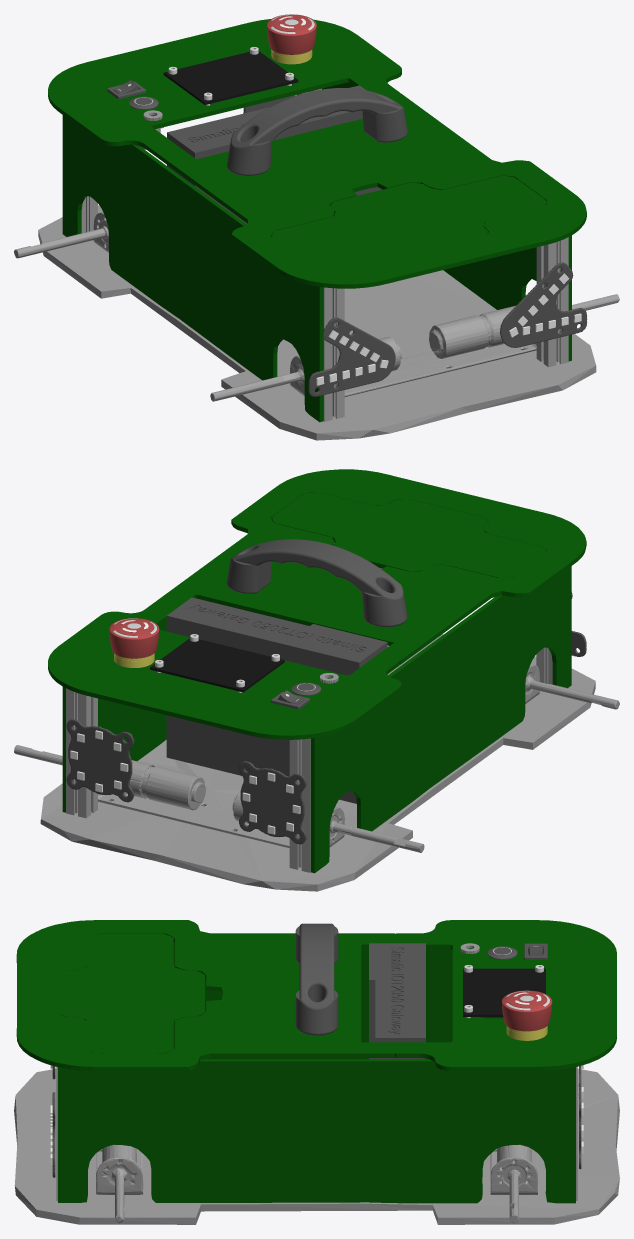
Rendered from eduard-green-chassis.dae.
3 views of the same model, one above another, from view 1: azimuth 30°, elevation 25°; view 2: azimuth 150°, elevation 25°; view 3: azimuth 270°, elevation 25° (orthographic).
Parts seen in each view (by area): view 1: Körper1.064, Körper1.004, Körper1.025, Körper1.063, Körper1.056, Körper1.005, Körper1.062, Körper1, Körper1.002, Körper1.053, Körper1.050, Körper1.084 (+4 smaller); view 2: Körper1.004, Körper1.064, Körper1.025, Körper1.063, Körper1.053, Körper1.056, Körper1.027, Körper1.062, Körper1, Körper1.087, Körper1.054, Körper1.002 (+4 smaller); view 3: Körper1.002, Körper1.064, Körper1.025, Körper1.063, Körper1.056, Körper1.053, Körper1.062, Körper1.004, Körper1, Körper1.027, Körper1.005, Körper10.
Part boxes in pixels (box(x1,y1,x2,y2)): Körper1.064: box(156, 93, 586, 288); Körper1.004: box(62, 115, 323, 422); Körper1.025: box(38, 205, 596, 440); Körper1.063: box(48, 19, 401, 156); Körper1.056: box(271, 176, 546, 261); Körper1.005: box(210, 294, 619, 401); Körper1.062: box(227, 88, 407, 175); Körper1: box(163, 51, 298, 104); Körper1.002: box(322, 82, 571, 361); Körper1.053: box(167, 85, 381, 224); Körper1.050: box(500, 262, 587, 347); Körper1.084: box(308, 317, 395, 396); Körper1.004: box(310, 566, 571, 873); Körper1.064: box(156, 469, 586, 664); Körper1.025: box(40, 634, 595, 891); Körper1.063: box(48, 601, 401, 739); Körper1.053: box(166, 597, 387, 803); Körper1.056: box(272, 492, 546, 578); Körper1.027: box(14, 745, 424, 852); Körper1.062: box(226, 539, 407, 627); Körper1: box(150, 638, 284, 692); Körper1.087: box(66, 719, 134, 802); Körper1.054: box(239, 761, 306, 844); Körper1.002: box(62, 620, 166, 812); Körper1.002: box(58, 1059, 575, 1203); Körper1.064: box(16, 920, 394, 1071); Körper1.025: box(14, 1068, 619, 1224); Körper1.063: box(395, 920, 616, 1071); Körper1.056: box(56, 933, 204, 1053); Körper1.053: box(369, 943, 425, 1059); Körper1.062: box(295, 923, 338, 1035); Körper1.004: box(173, 942, 503, 1059); Körper1: box(463, 968, 545, 1016); Körper1.027: box(490, 1144, 538, 1223); Körper1.005: box(96, 1144, 143, 1222); Körper10: box(501, 990, 552, 1031).
Size of the model in its own units: 0.2996 by 0.3837 by 0.1461.
